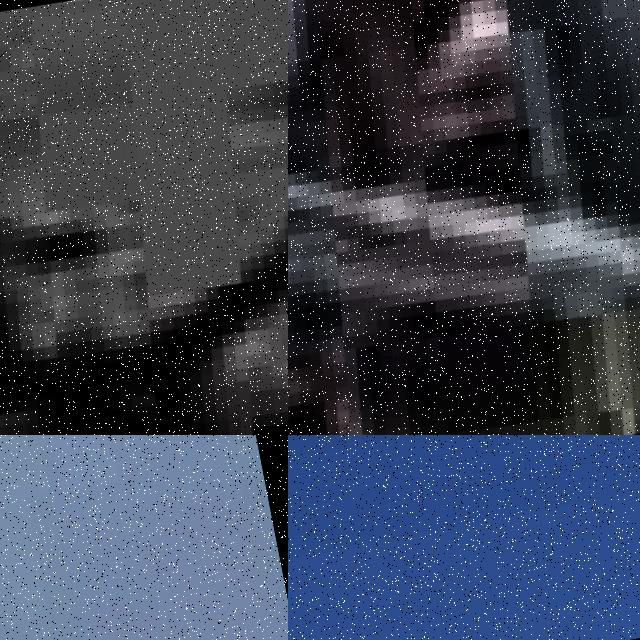drone: (288, 0, 640, 435), (0, 0, 288, 435)
